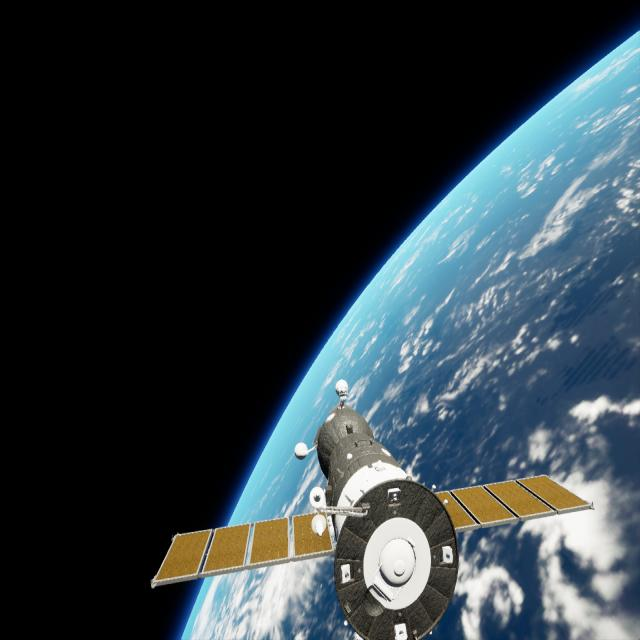Satellites revolving around earth: (151, 28, 639, 638), (150, 376, 596, 638)
